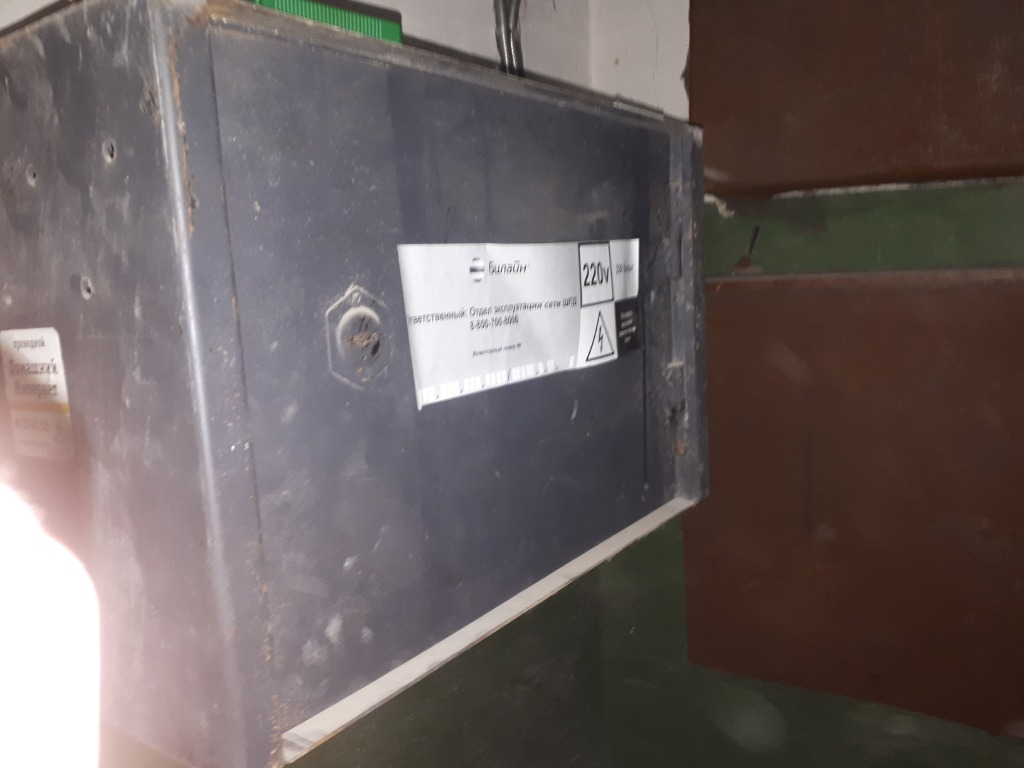e2-6u: (2, 4, 719, 768)
